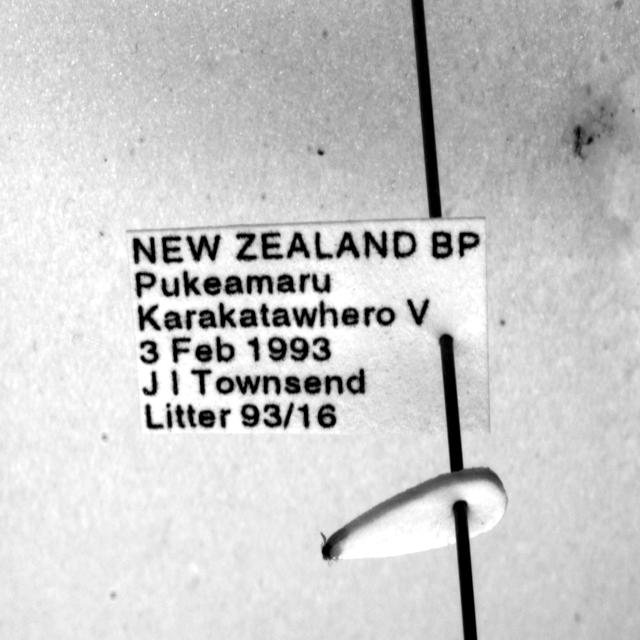typed_label: (128, 218, 489, 433)
